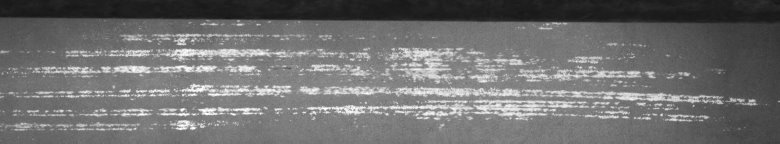kb: (4, 13, 758, 132)
